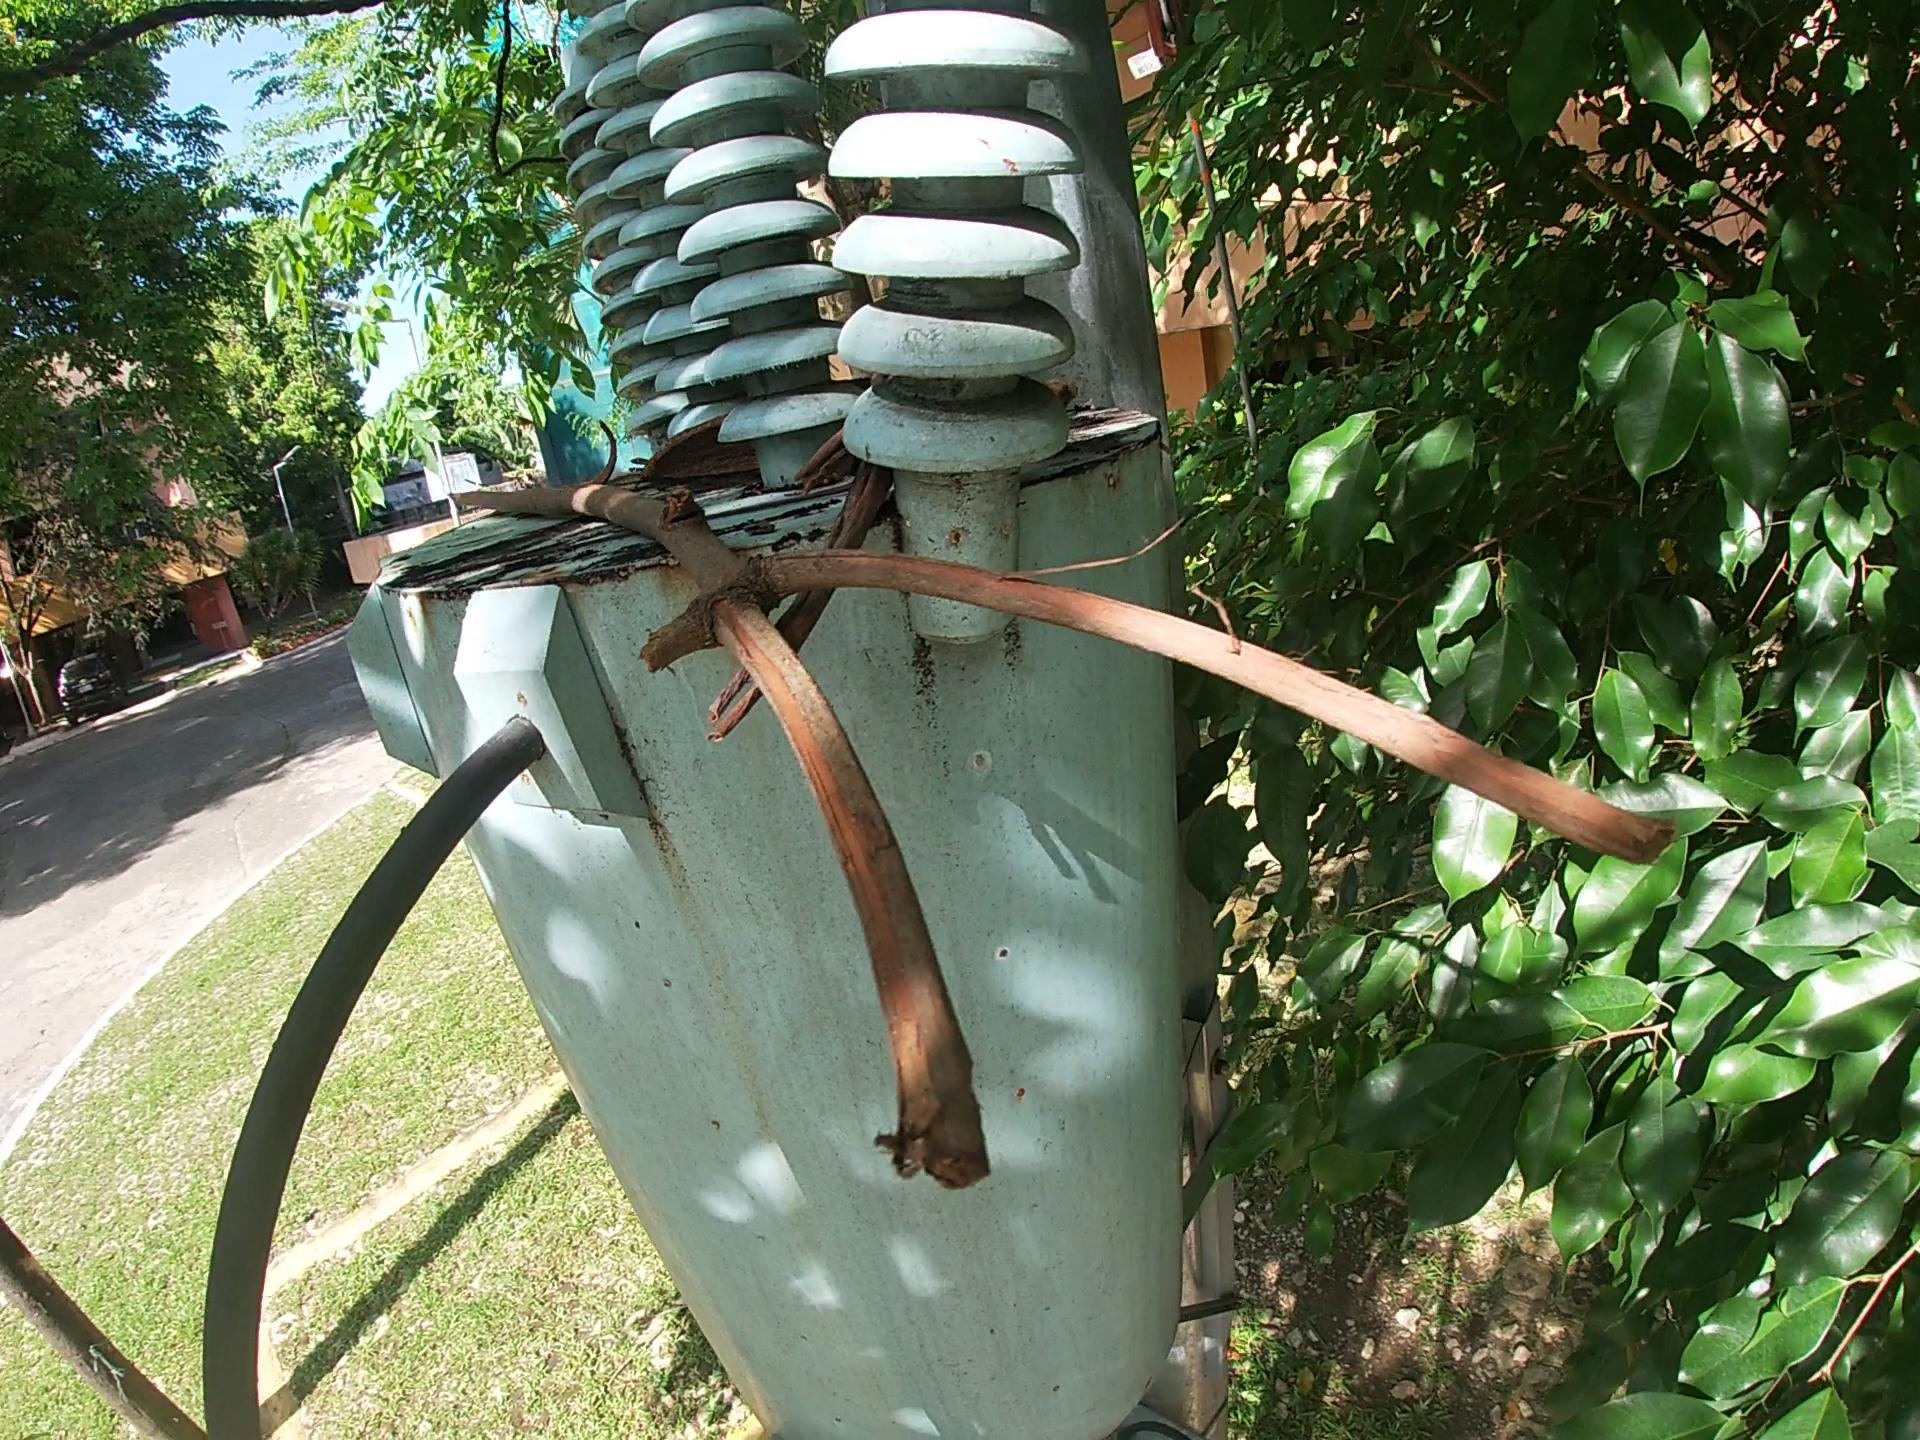mahogany fruit: (638, 411, 765, 484), (588, 417, 621, 486)
tree branch: (437, 467, 1683, 1212), (701, 428, 903, 753)
